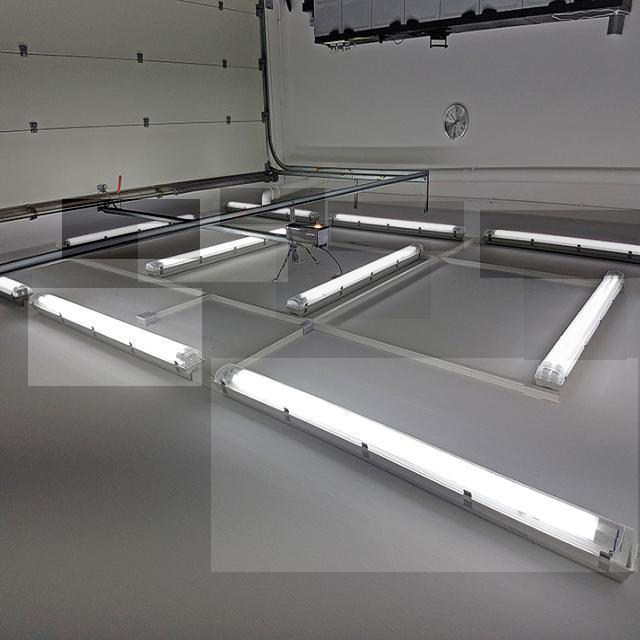light: (212, 361, 636, 582), (30, 292, 203, 374), (477, 208, 640, 277), (533, 268, 624, 388), (285, 242, 423, 315), (138, 227, 288, 289), (63, 201, 202, 257), (327, 202, 466, 251), (219, 189, 324, 231)
